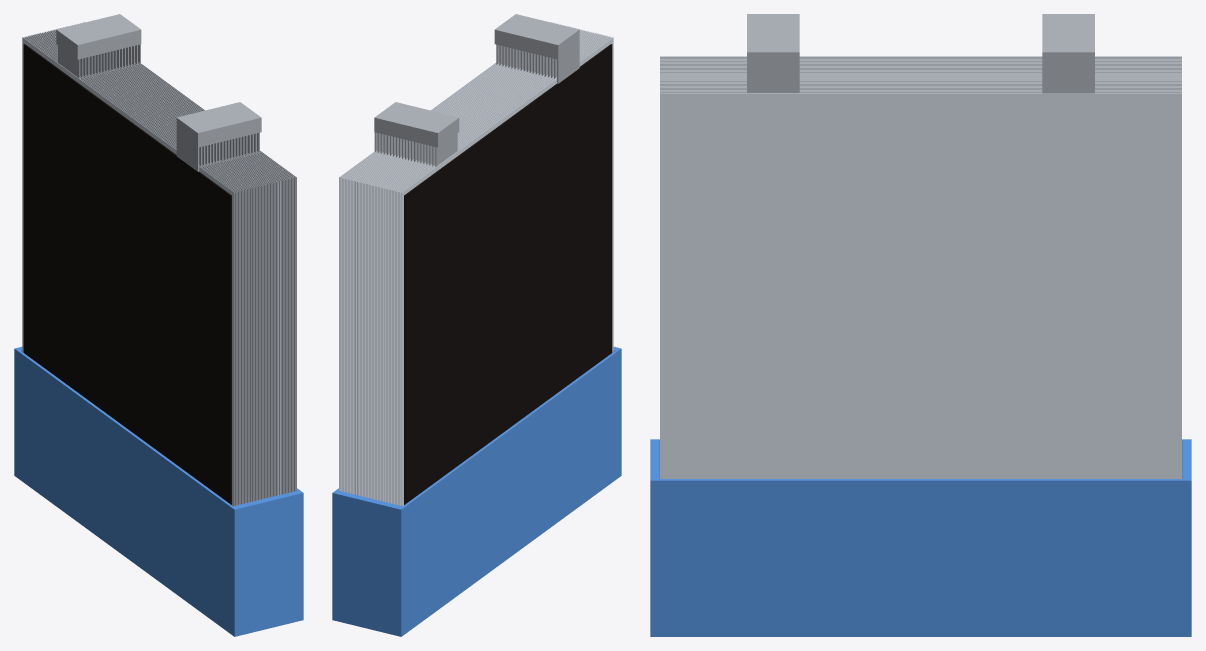
The model's file is r1_cell.glb.
3 renders of one model, left to right at view 1: azimuth 30°, elevation 25°; view 2: azimuth 150°, elevation 25°; view 3: azimuth 270°, elevation 25°, orthographic. The views are drawn at different scales.
Parts seen in each view (by area): view 1: Cell 5 cathode plate 1, Cell 5 free electrolyte, 0.5 M Na2SO4 (fluid volume), Cell 5 separator 1, Cell 5 anode plate-group strap (316L), Cell 5 cathode plate-group strap (316L), Cell 5 separator 13, Cell 5 separator 15, Cell 5 separator 17, Cell 5 separator 19, Cell 5 separator 21, Cell 5 separator 23, Cell 5 separator 25 (+36 smaller); view 2: Cell 5 cathode plate 1, Cell 5 free electrolyte, 0.5 M Na2SO4 (fluid volume), Cell 5 separator 1, Cell 5 cathode plate-group strap (316L), Cell 5 anode plate-group strap (316L), Cell 5 separator 13, Cell 5 separator 15, Cell 5 separator 17, Cell 5 separator 19, Cell 5 separator 21, Cell 5 separator 23, Cell 5 separator 25 (+36 smaller); view 3: Cell 5 separator 42, Cell 5 free electrolyte, 0.5 M Na2SO4 (fluid volume), Cell 5 cathode plate-group strap (316L), Cell 5 anode plate-group strap (316L), Cell 5 anode tab 21, Cell 5 cathode tab 21, Cell 5 separator 1, Cell 5 separator 2, Cell 5 separator 8, Cell 5 separator 9, Cell 5 separator 10, Cell 5 separator 12 (+15 smaller).
Boxes of the visible parts, <box> form: Cell 5 cathode plate 1: <box>23,44,231,504</box>; Cell 5 free electrolyte, 0.5 M Na2SO4 (fluid volume): <box>14,346,303,636</box>; Cell 5 separator 1: <box>22,37,234,506</box>; Cell 5 anode plate-group strap (316L): <box>56,14,141,59</box>; Cell 5 cathode plate-group strap (316L): <box>176,102,261,147</box>; Cell 5 separator 13: <box>40,32,253,501</box>; Cell 5 separator 15: <box>43,32,256,500</box>; Cell 5 separator 17: <box>46,31,259,500</box>; Cell 5 separator 19: <box>49,30,262,499</box>; Cell 5 separator 21: <box>52,30,265,498</box>; Cell 5 separator 23: <box>55,29,268,497</box>; Cell 5 separator 25: <box>58,28,271,497</box>; Cell 5 cathode plate 1: <box>404,44,612,504</box>; Cell 5 free electrolyte, 0.5 M Na2SO4 (fluid volume): <box>332,346,621,636</box>; Cell 5 separator 1: <box>401,37,613,506</box>; Cell 5 cathode plate-group strap (316L): <box>494,14,579,59</box>; Cell 5 anode plate-group strap (316L): <box>374,102,459,147</box>; Cell 5 separator 13: <box>382,32,595,501</box>; Cell 5 separator 15: <box>379,32,592,500</box>; Cell 5 separator 17: <box>376,31,589,500</box>; Cell 5 separator 19: <box>373,30,586,499</box>; Cell 5 separator 21: <box>370,30,583,498</box>; Cell 5 separator 23: <box>367,29,580,497</box>; Cell 5 separator 25: <box>364,28,577,497</box>; Cell 5 separator 42: <box>660,93,1181,478</box>; Cell 5 free electrolyte, 0.5 M Na2SO4 (fluid volume): <box>650,439,1191,636</box>; Cell 5 cathode plate-group strap (316L): <box>747,14,799,69</box>; Cell 5 anode plate-group strap (316L): <box>1042,14,1094,69</box>; Cell 5 anode tab 21: <box>1042,70,1094,93</box>; Cell 5 cathode tab 21: <box>747,70,799,92</box>; Cell 5 separator 1: <box>660,56,1181,57</box>; Cell 5 separator 2: <box>660,57,1181,58</box>; Cell 5 separator 8: <box>660,62,1181,63</box>; Cell 5 separator 9: <box>660,63,1181,64</box>; Cell 5 separator 10: <box>660,64,1181,65</box>; Cell 5 separator 12: <box>660,66,1181,67</box>.
Size of the model in its own units: 0.0299 by 0.1959 by 0.1649.
